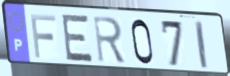0: (130, 17, 155, 66)
7: (159, 18, 186, 68)
E: (61, 12, 95, 64)
F: (29, 13, 58, 60)
I: (193, 19, 210, 71)
R: (91, 14, 127, 65)
